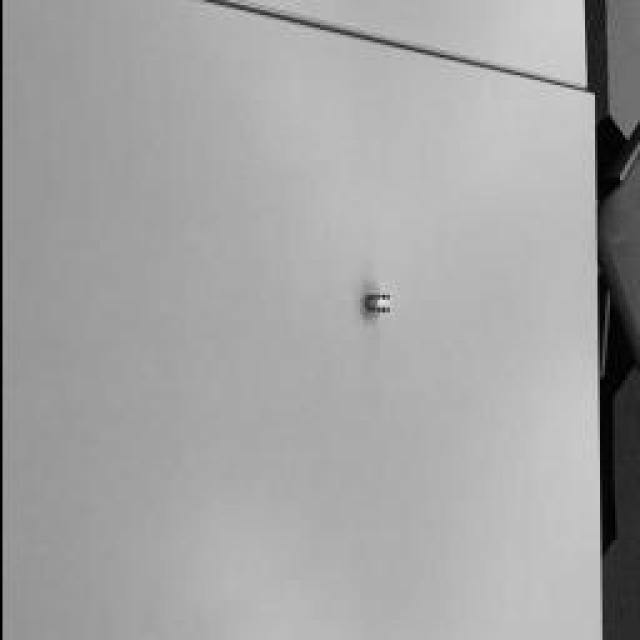dice_6: (374, 292, 386, 312)
